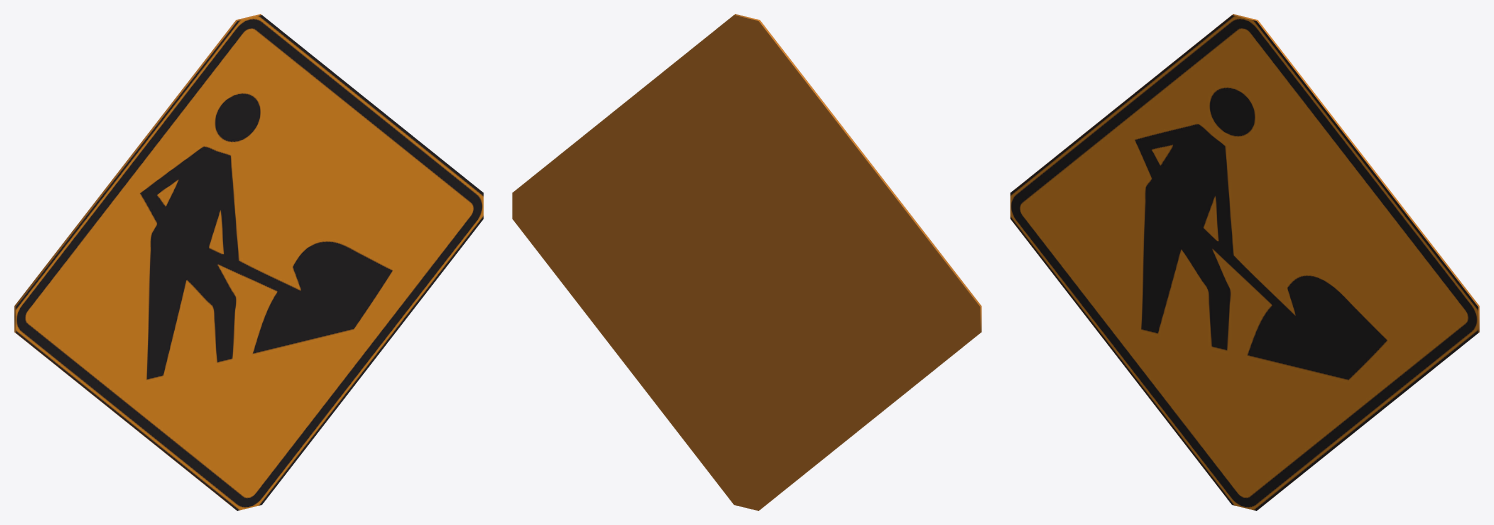
Rendered from SM_sign_01.glb.
3 views of the same model, side by side, from view 1: azimuth 30°, elevation 25°; view 2: azimuth 150°, elevation 25°; view 3: azimuth 330°, elevation 25° (orthographic).
Visible parts, largest first — view 1: SM_sign_01; view 2: SM_sign_01; view 3: SM_sign_01.
Boxes of the visible parts, x1,y1,x2,y2 form: SM_sign_01: [14, 14, 483, 510]; SM_sign_01: [512, 14, 981, 510]; SM_sign_01: [1010, 14, 1479, 510].
Size of the model in its own units: 2.54 by 2.54 by 0.0126.
Materials: 1 (1 with a texture image).
